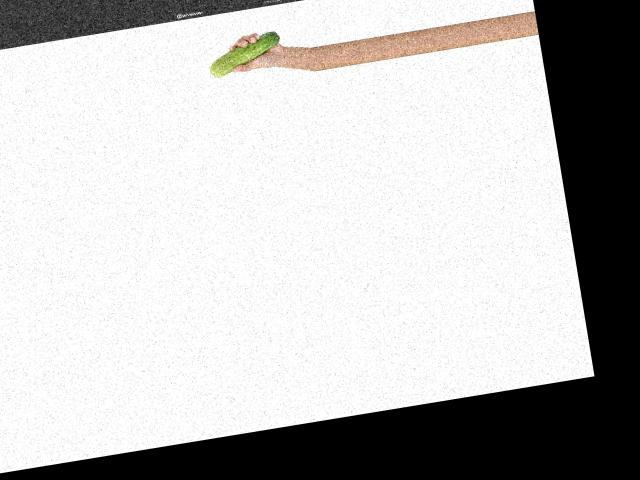cucumber: (206, 30, 284, 78)
